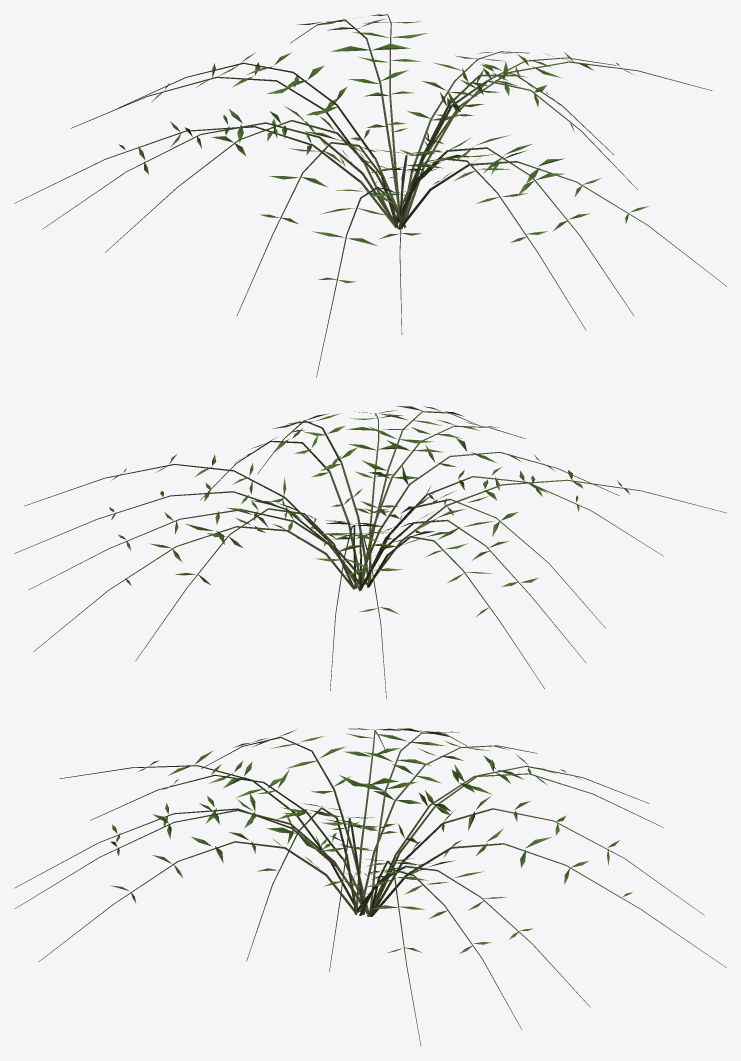
File: forest_fern_002_c_LOD3.gltf
3 renders of one model, top to bottom at view 1: azimuth 30°, elevation 25°; view 2: azimuth 150°, elevation 25°; view 3: azimuth 270°, elevation 25°, orthographic. The views are drawn at different scales.
Parts seen in each view (by area): view 1: forest_fern_002_c_LOD3; view 2: forest_fern_002_c_LOD3; view 3: forest_fern_002_c_LOD3.
Part boxes in pixels (x1,y1,x2,y2): forest_fern_002_c_LOD3: [14, 14, 726, 377]; forest_fern_002_c_LOD3: [14, 406, 726, 699]; forest_fern_002_c_LOD3: [14, 728, 726, 1046].
Size of the model in its own units: 4.76 by 1.05 by 4.8.
Materials: 1 (1 with a texture image).
